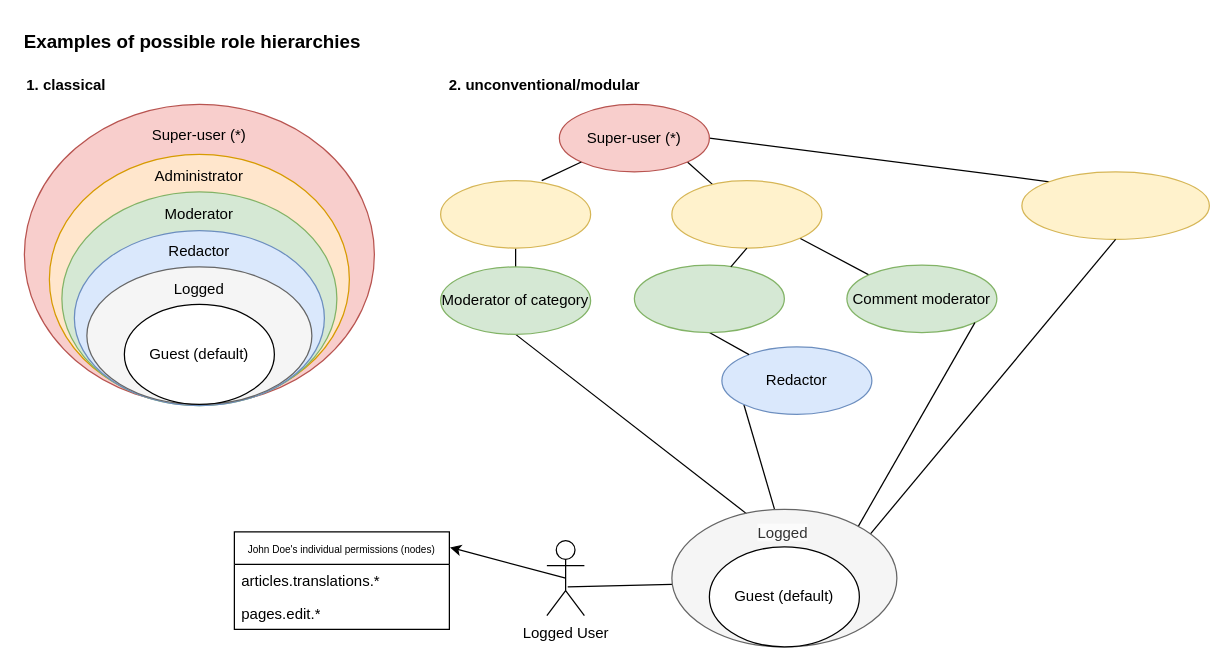
This 1231x669 diagram has some shape labels left out. Each missing label, with the box of its shape:
Blog administrator: (671, 179, 822, 248)
Contact Manager: (1021, 171, 1209, 239)
Content moderator: (633, 264, 784, 332)
Forum administrator: (439, 179, 591, 248)
